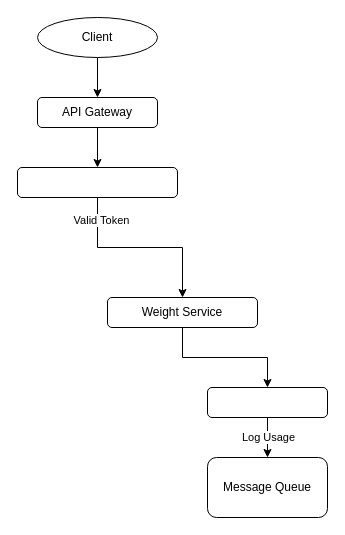
Some shapes in this 345 by 535 pixel diagram are drawn without their labels. Here are the shapes that lost their labels. From the top down, the centre of each, then its label:
the point at 97,182: Authentication Middleware
the point at 267,402: API Endpoints
